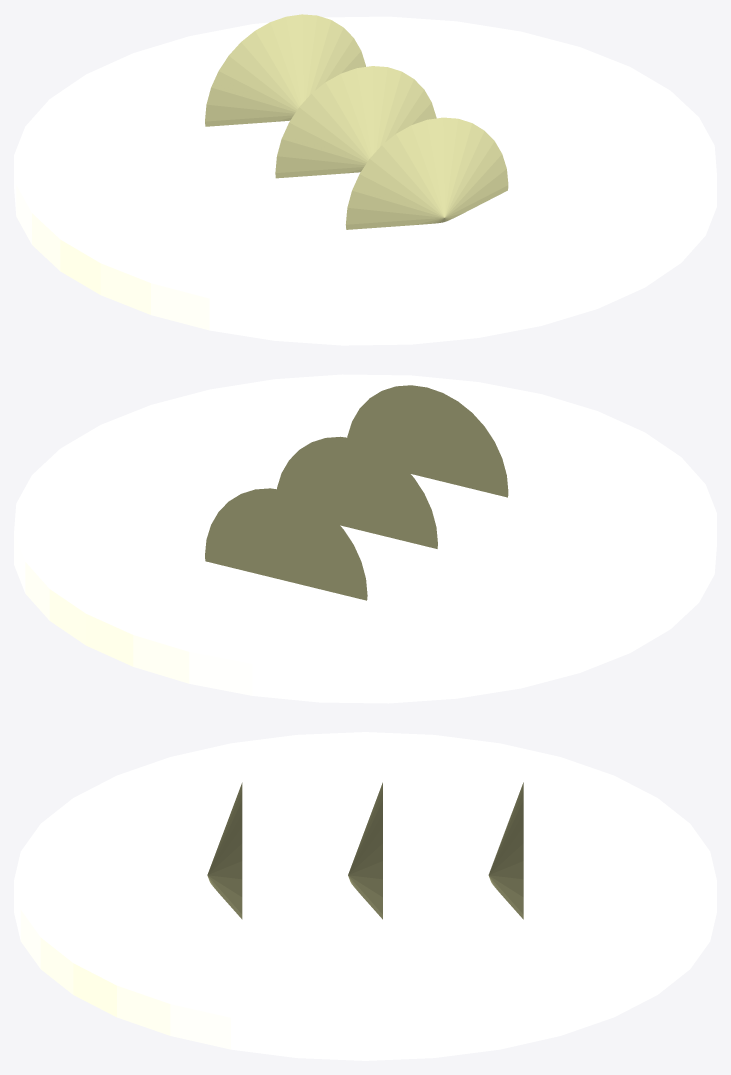
Rendered from speed_boost_pad.fbx.
3 renders of one model, top to bottom at view 1: azimuth 30°, elevation 25°; view 2: azimuth 150°, elevation 25°; view 3: azimuth 270°, elevation 25°, orthographic.
Visible parts, largest first — view 1: Cylinder, Cone, Cone.001, Cone.002; view 2: Cylinder, Cone.002, Cone, Cone.001; view 3: Cylinder, Cone, Cone.002, Cone.001.
Boxes of the visible parts, x1=… form: Cylinder: x1=14, y1=16, x2=716, y2=345; Cone: x1=345, y1=117, x2=508, y2=229; Cone.001: x1=275, y1=66, x2=436, y2=178; Cone.002: x1=205, y1=14, x2=365, y2=126; Cylinder: x1=14, y1=374, x2=716, y2=703; Cone.002: x1=205, y1=488, x2=367, y2=600; Cone: x1=347, y1=385, x2=508, y2=497; Cone.001: x1=277, y1=436, x2=437, y2=548; Cylinder: x1=14, y1=732, x2=716, y2=1060; Cone: x1=207, y1=782, x2=242, y2=919; Cone.002: x1=488, y1=782, x2=523, y2=919; Cone.001: x1=348, y1=782, x2=382, y2=919.
Bounding box in the file's own units: 600 × 160 × 600.
